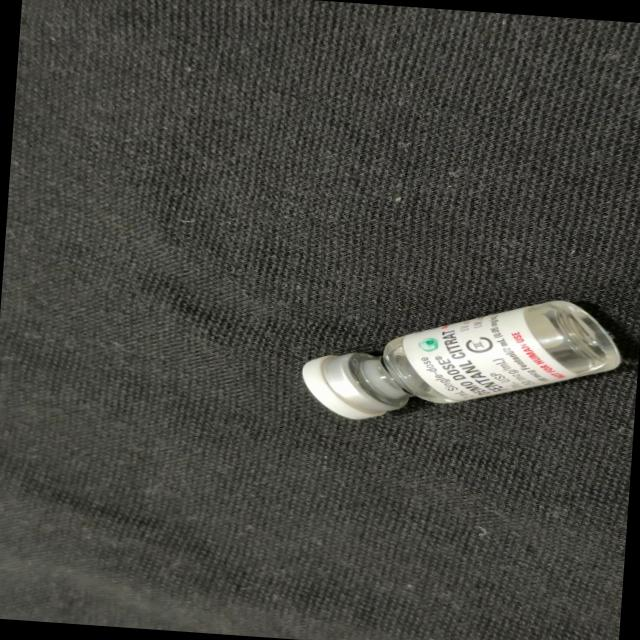fentanl_citrat: (304, 284, 620, 434)
